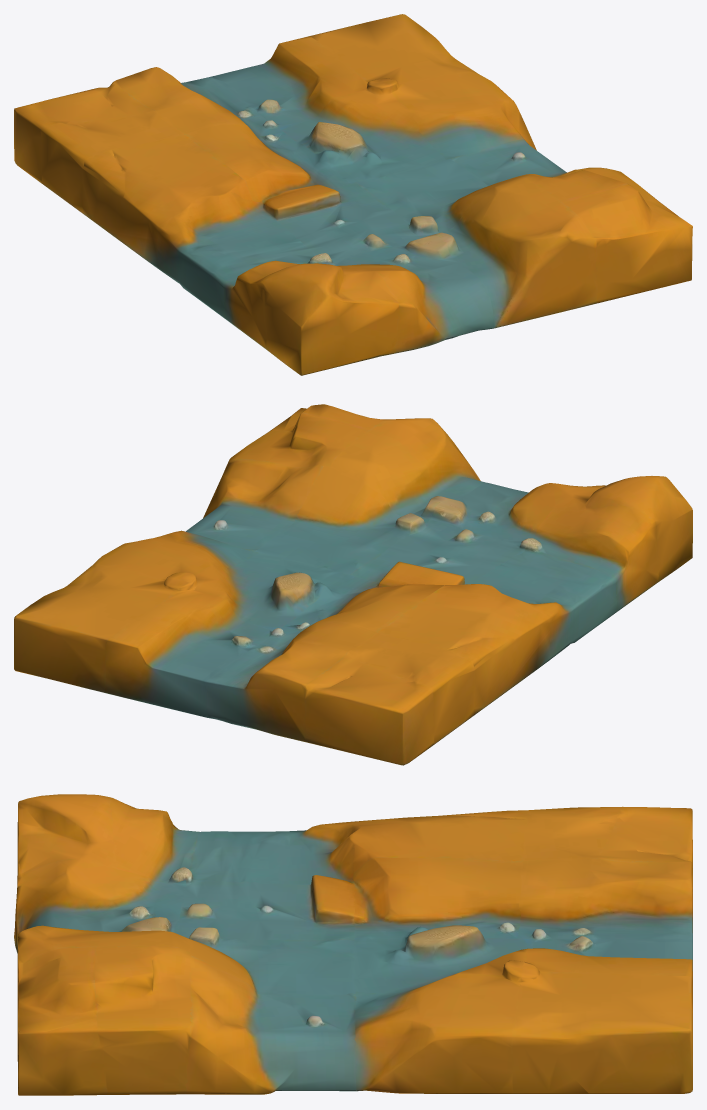
The picture shows the model from 3 angles, top to bottom: view 1: azimuth 30°, elevation 25°; view 2: azimuth 150°, elevation 25°; view 3: azimuth 270°, elevation 25°; orthographic projection. The views are drawn at different scales.
Parts seen in each view (by area): view 1: tripo_node_3c54ec27-cdec-4198-b89c-782ce2205bf5; view 2: tripo_node_3c54ec27-cdec-4198-b89c-782ce2205bf5; view 3: tripo_node_3c54ec27-cdec-4198-b89c-782ce2205bf5.
Boxes of the visible parts, x1,y1,x2,y2 form: tripo_node_3c54ec27-cdec-4198-b89c-782ce2205bf5: (14, 14, 692, 375); tripo_node_3c54ec27-cdec-4198-b89c-782ce2205bf5: (14, 404, 692, 765); tripo_node_3c54ec27-cdec-4198-b89c-782ce2205bf5: (14, 794, 692, 1095).
Bounding box in the file's own units: 0.7796 × 0.1626 × 0.9999.
1 material, 1 textured.
